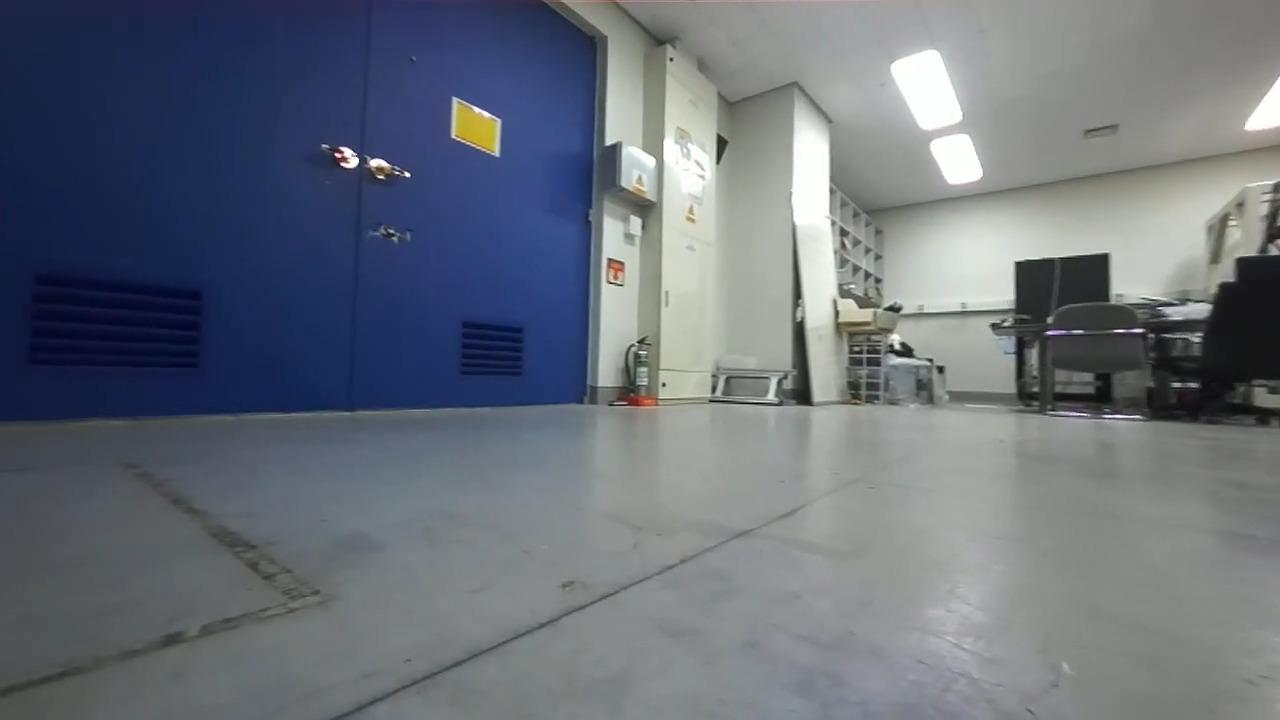crazyflie: (360, 217, 417, 250)
